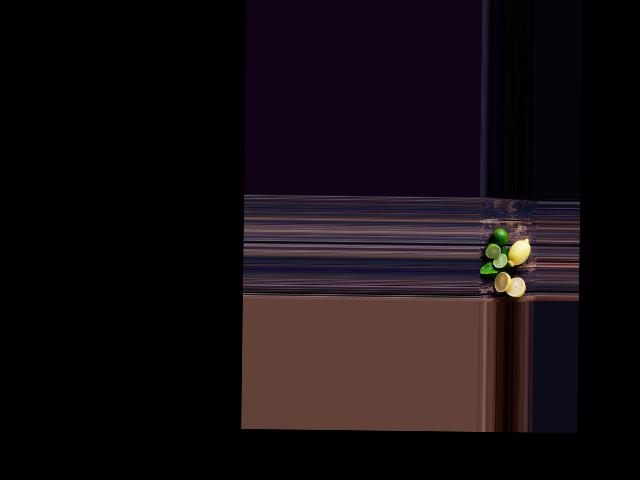lemon: (505, 236, 531, 267)
